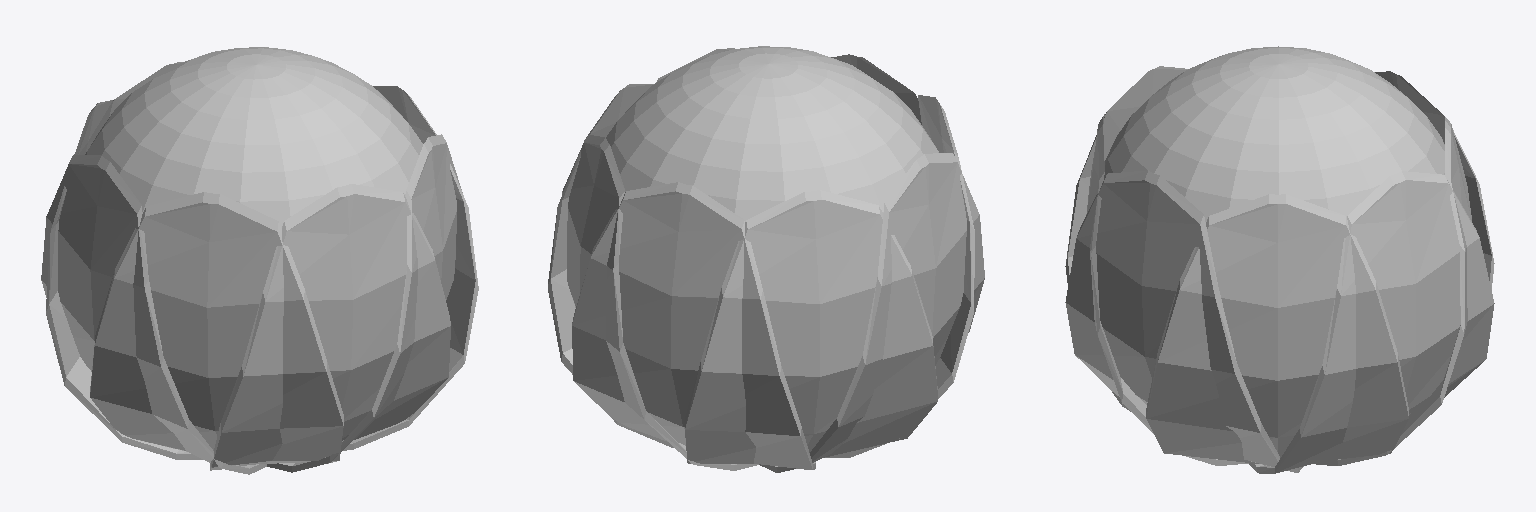
Rendered from Cabbage.obj.
3 views of the same model, side by side, from view 1: azimuth 30°, elevation 25°; view 2: azimuth 150°, elevation 25°; view 3: azimuth 270°, elevation 25° (orthographic).
Visible parts, largest first — view 1: pSphere2, pSphere2 polySurface6, polySurface5 pSphere2, pSphere2 polySurface2, pSphere2 polySurface7; view 2: pSphere2 polySurface7, pSphere2, polySurface5 pSphere2, pSphere2 polySurface2, pSphere2 polySurface6; view 3: pSphere2 polySurface2, pSphere2, pSphere2 polySurface6, pSphere2 polySurface7, polySurface5 pSphere2.
Boxes of the visible parts, <box> form: pSphere2: <box>85,47,422,228</box>; pSphere2 polySurface6: <box>90,192,343,463</box>; polySurface5 pSphere2: <box>109,62,450,470</box>; pSphere2 polySurface2: <box>41,86,478,474</box>; pSphere2 polySurface7: <box>46,100,462,472</box>; pSphere2 polySurface7: <box>656,48,937,463</box>; pSphere2: <box>606,46,938,221</box>; polySurface5 pSphere2: <box>572,54,921,469</box>; pSphere2 polySurface2: <box>548,84,984,472</box>; pSphere2 polySurface6: <box>562,95,974,470</box>; pSphere2 polySurface2: <box>1146,194,1408,463</box>; pSphere2: <box>1104,46,1444,221</box>; pSphere2 polySurface6: <box>1065,66,1494,473</box>; pSphere2 polySurface7: <box>1065,71,1494,472</box>; polySurface5 pSphere2: <box>1086,114,1471,465</box>.
Size of the model in its own units: 1.65 by 1.61 by 1.63.